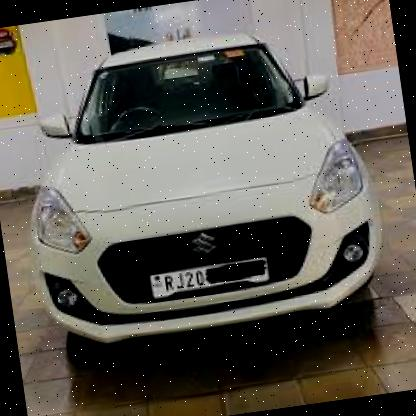car: (1, 5, 399, 366)
